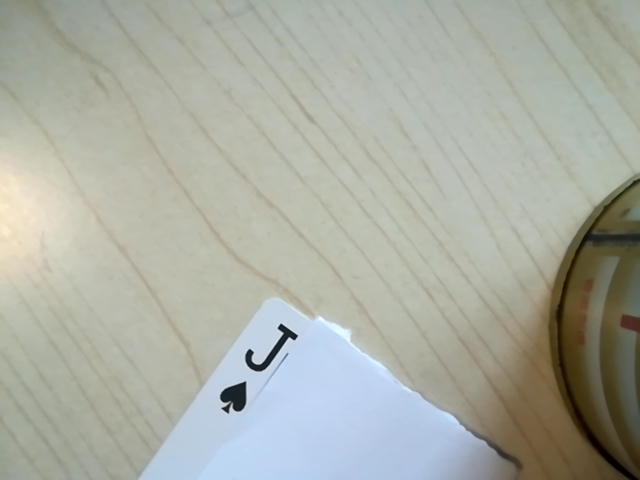ht j: (207, 320, 306, 424)
